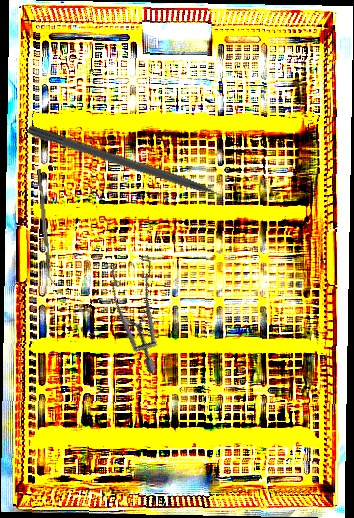Chopper: (37, 168, 56, 284)
Pusher: (26, 124, 247, 211)
Speculum: (78, 240, 209, 376)
